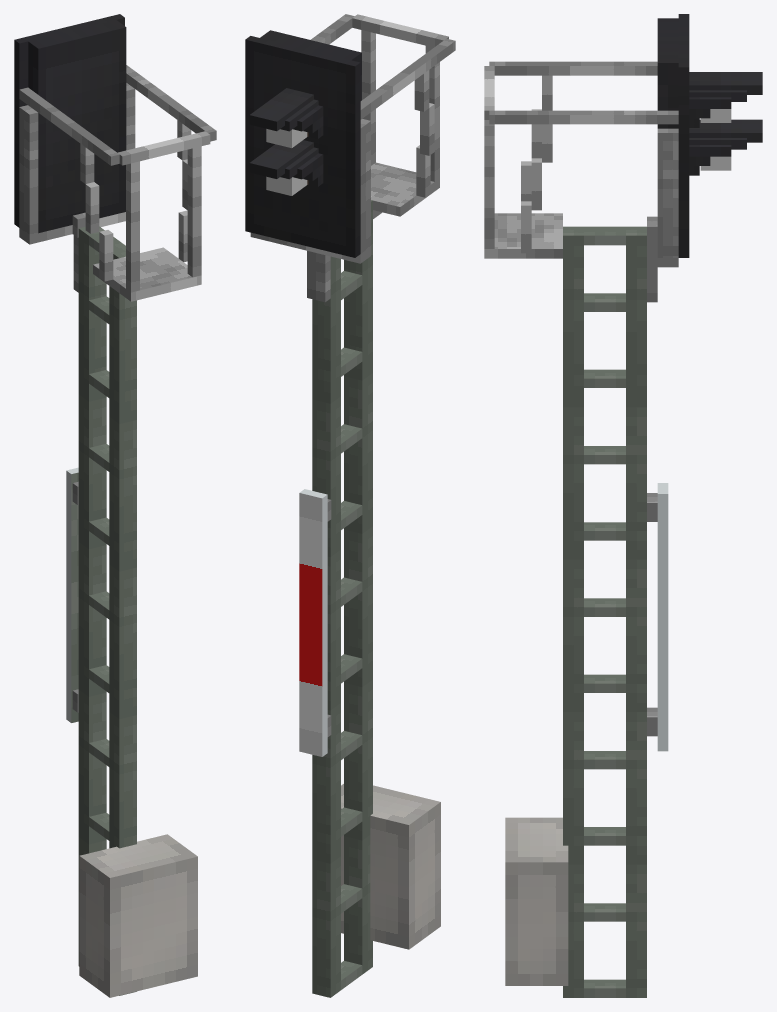
Rendered from kssignal-haupt2.obj.
3 renders of one model, left to right at view 1: azimuth 30°, elevation 25°; view 2: azimuth 150°, elevation 25°; view 3: azimuth 270°, elevation 25°, orthographic. The views are drawn at different scales.
Parts seen in each view (by area): view 1: cube; view 2: cube; view 3: cube.
Boxes of the visible parts, x1,y1,x2,y2 form: cube: [14, 14, 216, 997]; cube: [245, 14, 455, 997]; cube: [484, 14, 762, 997].
Bounding box in the file's own units: 0.75 × 6.25 × 1.66.
